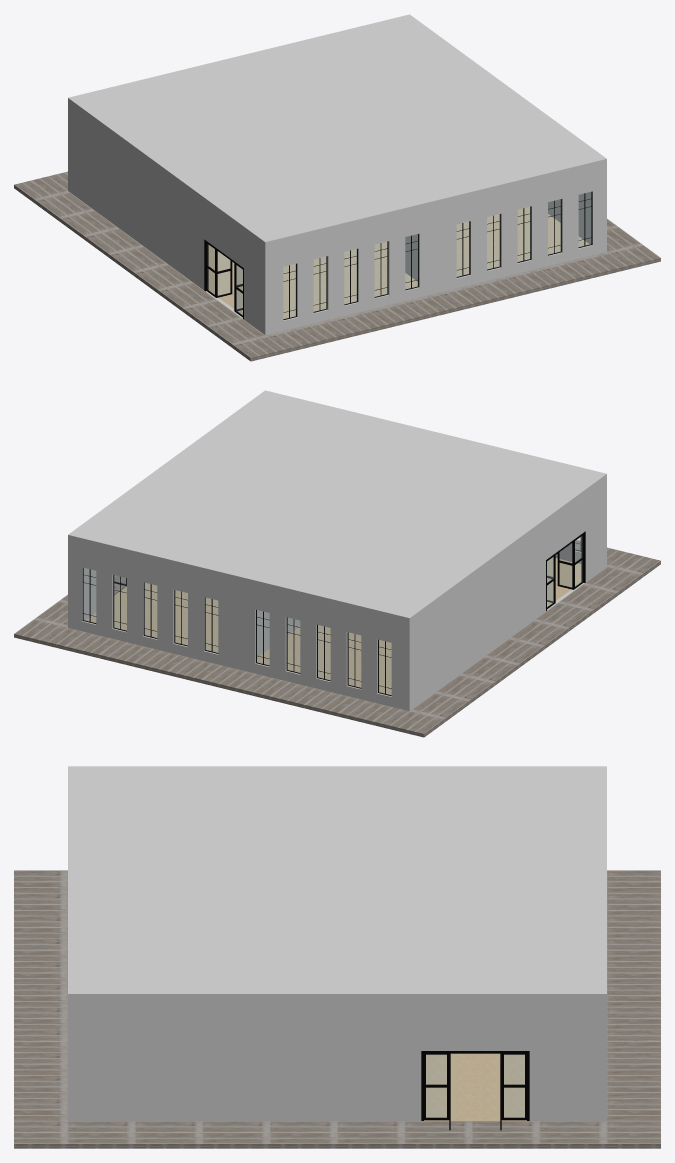
The model's file is laberinto003.gltf.
The picture shows the model from 3 angles, top to bottom: view 1: azimuth 30°, elevation 25°; view 2: azimuth 150°, elevation 25°; view 3: azimuth 270°, elevation 25°; orthographic projection. The views are drawn at different scales.
Visible parts, largest first — view 1: Techo, Muros, Andenes, Piso, Vidrios, Ventanas, Puertas; view 2: Techo, Muros, Andenes, Vidrios, Piso, Ventanas, Puertas; view 3: Techo, Muros, Andenes, Piso, Puertas.
Part boxes in pixels (x1=…): Techo: x1=68, y1=14, x2=606, y2=247; Muros: x1=68, y1=103, x2=606, y2=335; Andenes: x1=14, y1=171, x2=660, y2=361; Piso: x1=208, y1=206, x2=589, y2=318; Vidrios: x1=283, y1=192, x2=591, y2=318; Ventanas: x1=283, y1=191, x2=592, y2=319; Puertas: x1=204, y1=239, x2=243, y2=319; Techo: x1=68, y1=390, x2=606, y2=623; Muros: x1=68, y1=479, x2=606, y2=711; Andenes: x1=14, y1=540, x2=660, y2=737; Vidrios: x1=83, y1=538, x2=579, y2=694; Piso: x1=85, y1=557, x2=581, y2=694; Ventanas: x1=82, y1=537, x2=581, y2=695; Puertas: x1=114, y1=531, x2=585, y2=610; Techo: x1=68, y1=766, x2=606, y2=1001; Muros: x1=68, y1=1001, x2=606, y2=1120; Andenes: x1=14, y1=870, x2=660, y2=1148; Piso: x1=424, y1=1053, x2=526, y2=1120; Puertas: x1=421, y1=1051, x2=529, y2=1130.
Size of what is drawn, in the model's own units: 24 by 5.4 by 24.
6 materials, 2 textured.
